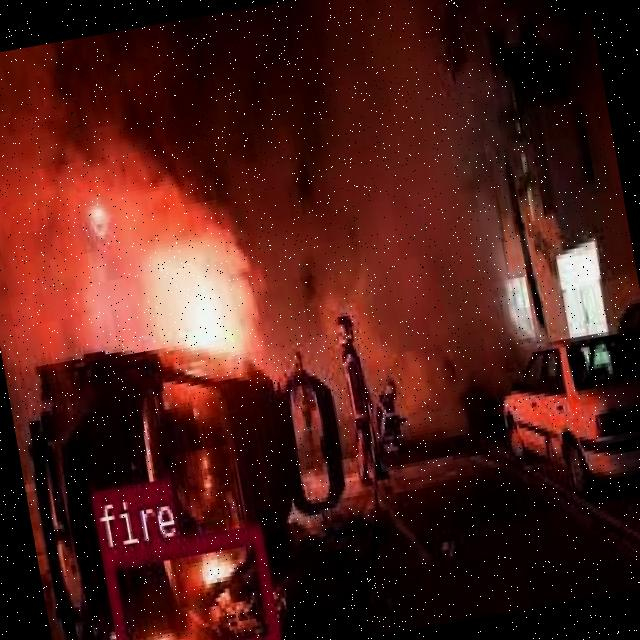fire: (100, 521, 277, 640)
